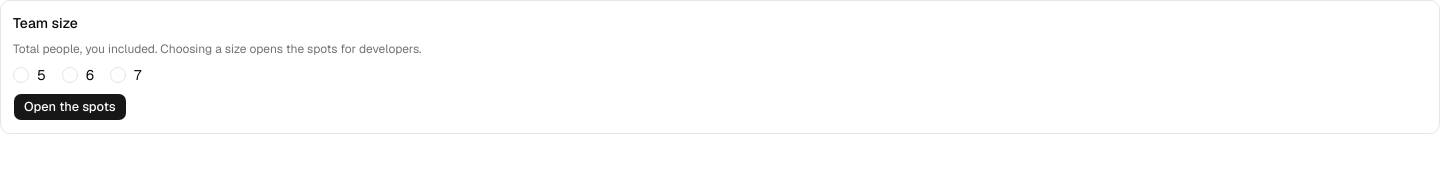
it: SetTeamSize › asks for a size before sending anything
Click the button "Open the spots".
click(70, 107)  # box [13, 93, 127, 121]
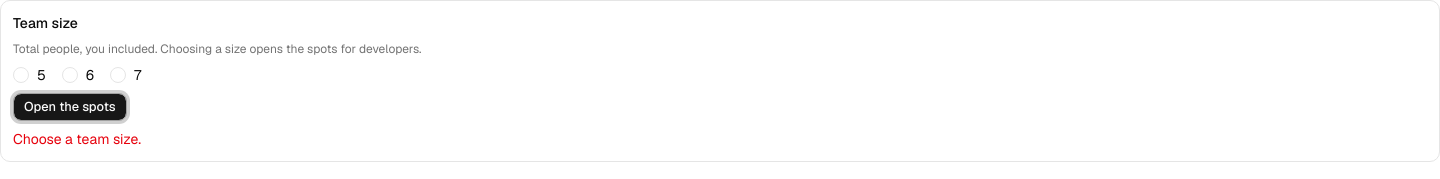
Expected: the message reads "Choose a team size.", [13, 130, 141, 148]
